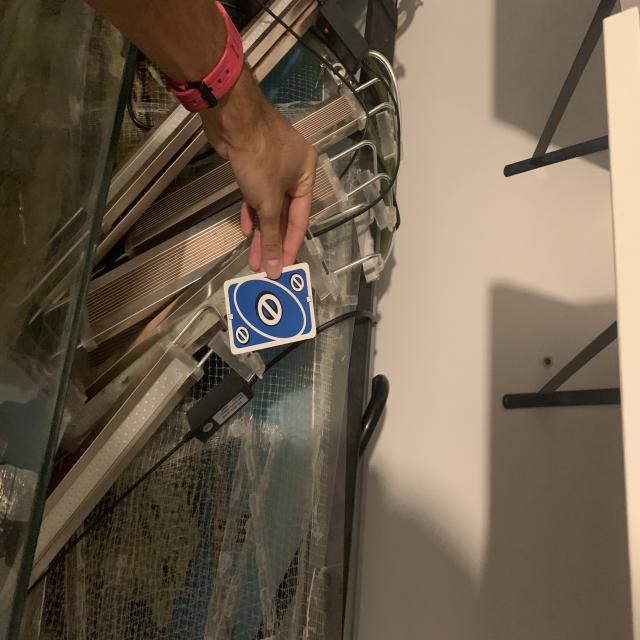lblueskip-20: (288, 272, 308, 294)
